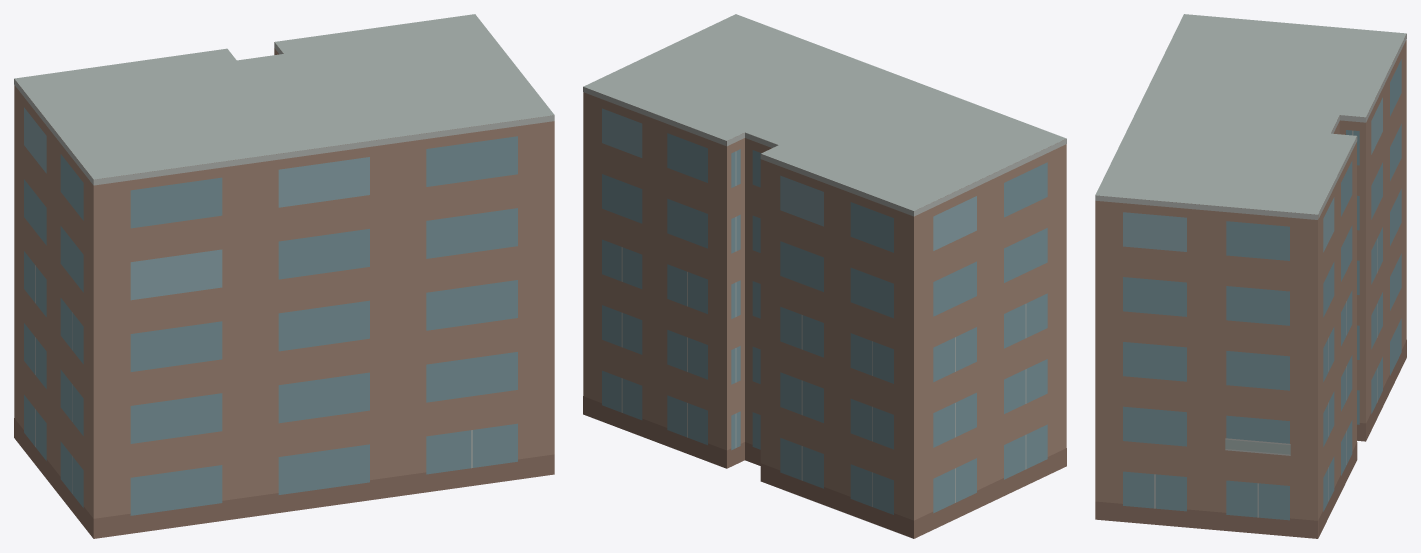
The model's file is survey-upis-33005681.glb.
3 renders of one model, left to right at view 1: azimuth 30°, elevation 25°; view 2: azimuth 150°, elevation 25°; view 3: azimuth 270°, elevation 25°, orthographic. The views are drawn at different scales.
Visible parts, largest first — view 1: survey-upis-33005681.tmp; view 2: survey-upis-33005681.tmp; view 3: survey-upis-33005681.tmp.
Boxes of the visible parts, <box> form: survey-upis-33005681.tmp: <box>14,14,554,538</box>; survey-upis-33005681.tmp: <box>583,14,1066,538</box>; survey-upis-33005681.tmp: <box>1095,14,1406,538</box>.
Bounding box in the file's own units: 19.6 × 14.75 × 12.86.
